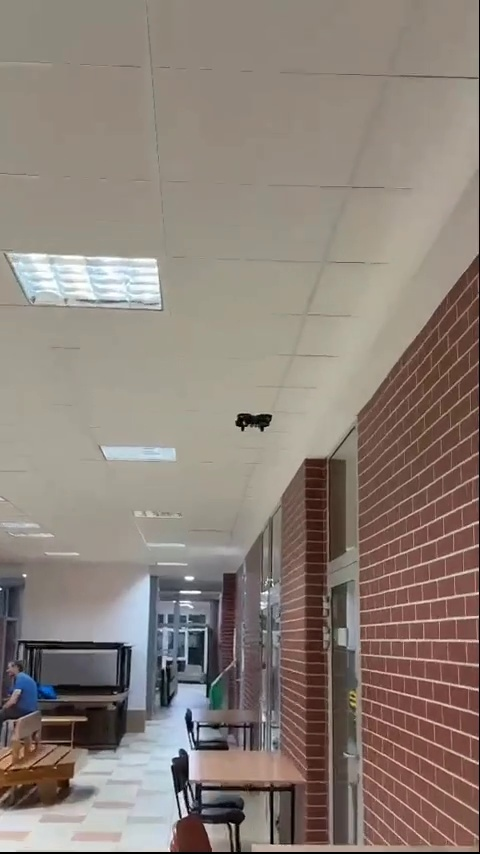drone: (234, 410, 274, 430)
no vest: (0, 661, 43, 727)
